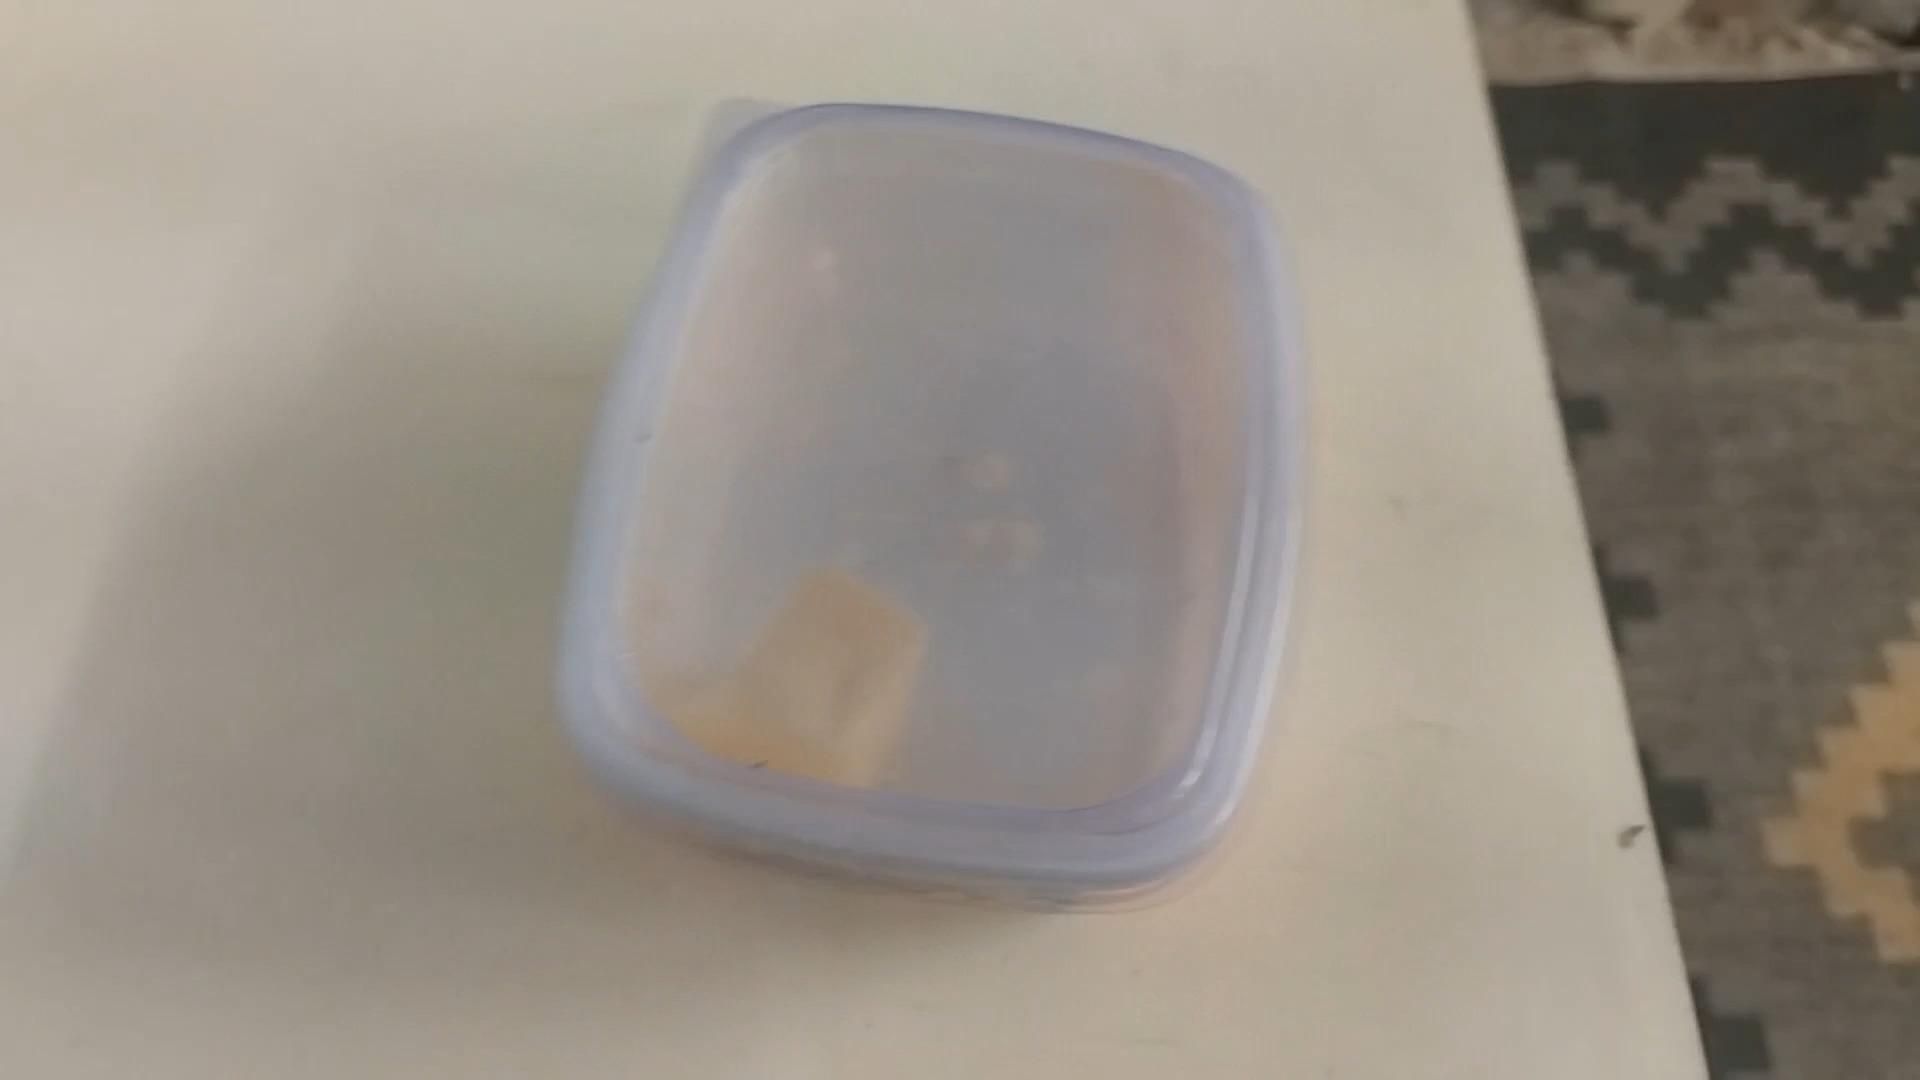butter: (556, 100, 1296, 915)
